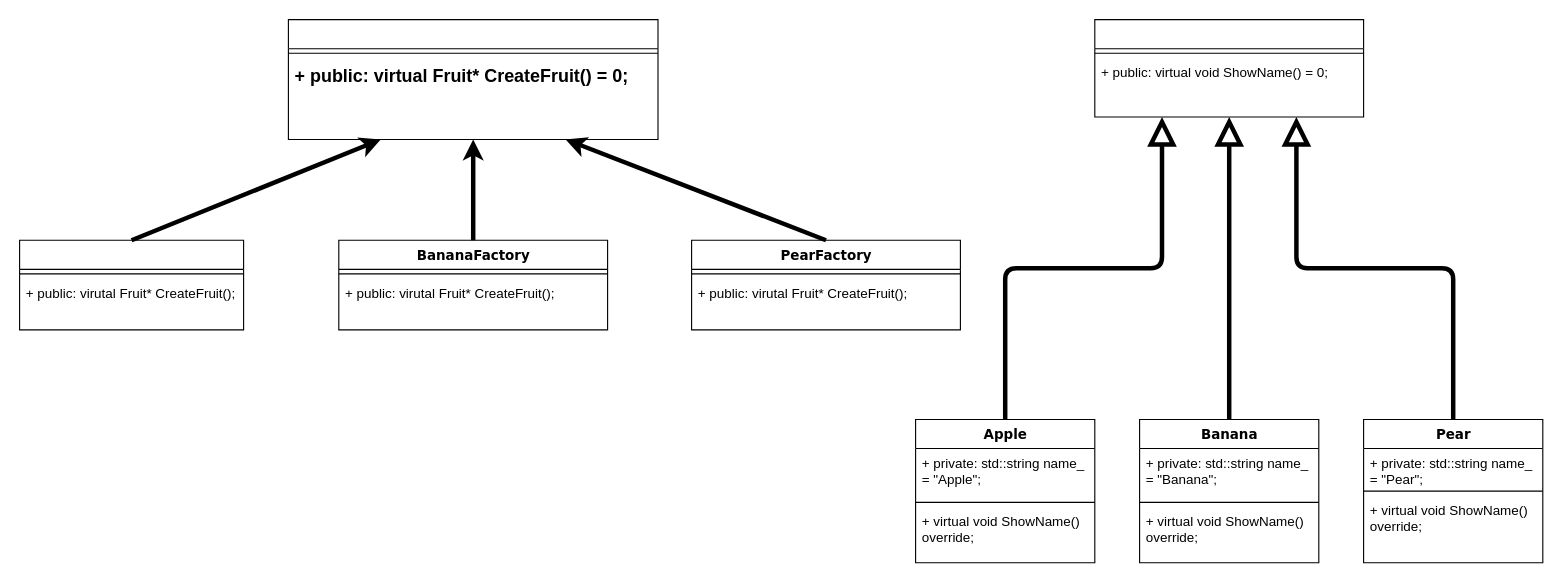
This 1562x582 diagram has some shape labels left out. Here are the shapes that lost their labels. From the top down, the box of each, then its label:
(287, 18, 658, 139): Factory
(1094, 18, 1364, 117): Fruit
(18, 239, 244, 330): AppleFactory
